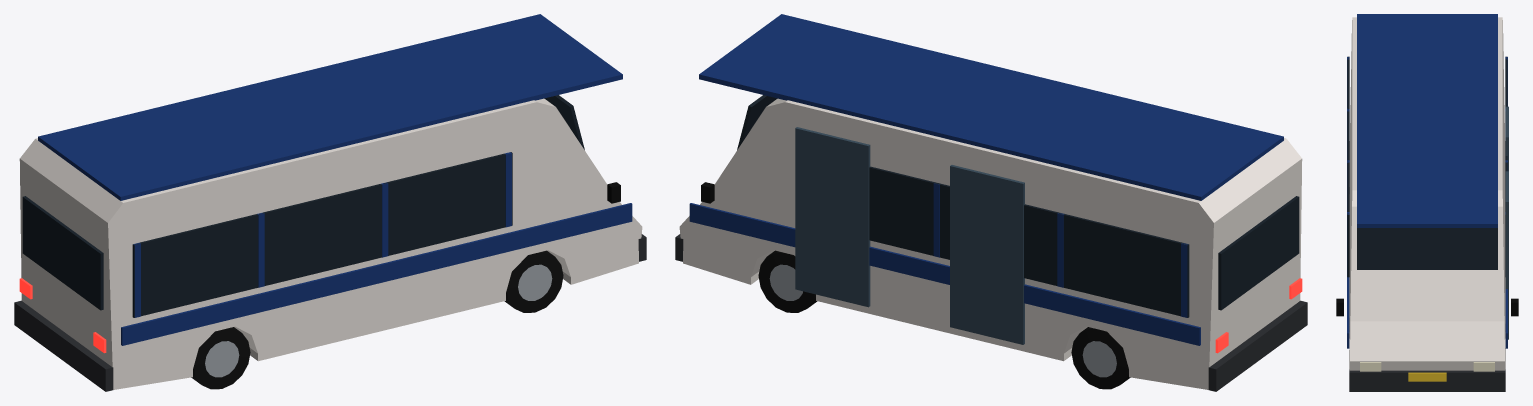
Rendered from mini_bus.glb.
The picture shows the model from 3 angles, left to right: view 1: azimuth 30°, elevation 25°; view 2: azimuth 150°, elevation 25°; view 3: azimuth 270°, elevation 25°; orthographic projection. The views are drawn at different scales.
Visible parts, largest first — view 1: mini_bus_body, wheel_1r.001, wheel_0r.001; view 2: mini_bus_body, wheel_1l.001, wheel_0l.001; view 3: mini_bus_body.
Boxes of the visible parts, left/top/right/bottom form: mini_bus_body: left=14, top=14, right=646, bottom=391; wheel_1r.001: left=191, top=327, right=250, bottom=389; wheel_0r.001: left=504, top=250, right=563, bottom=312; mini_bus_body: left=675, top=14, right=1307, bottom=391; wheel_1l.001: left=1071, top=327, right=1130, bottom=389; wheel_0l.001: left=758, top=250, right=817, bottom=312; mini_bus_body: left=1336, top=14, right=1518, bottom=391.
Size of the model in its own units: 7.02 by 2.67 by 2.39.
Materials: 2 (1 with a texture image).
